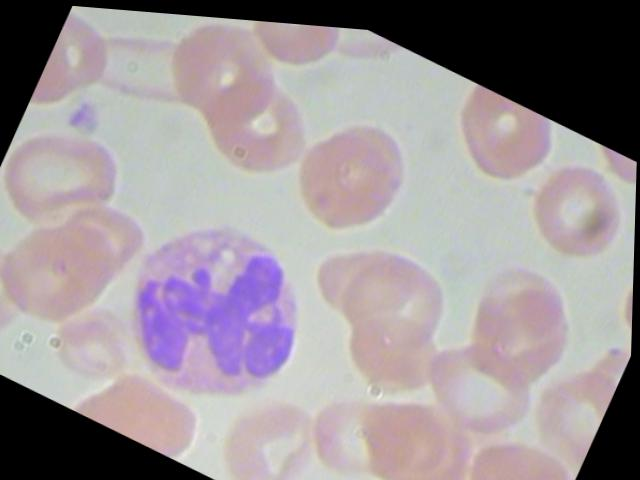Red Blood Cells: (274, 86, 437, 253), (0, 102, 149, 263), (409, 303, 560, 453), (319, 222, 469, 372), (148, 10, 299, 139), (508, 133, 637, 275), (71, 346, 220, 465), (430, 69, 564, 197), (207, 373, 340, 479), (229, 15, 351, 79), (0, 229, 53, 355)
White Blood Cells: (83, 175, 350, 445)
